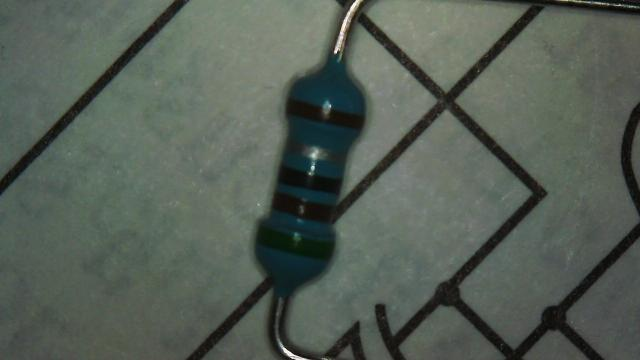black: (277, 164, 341, 194)
brown: (286, 98, 364, 130), (272, 192, 334, 223)
green: (256, 225, 333, 260)
resistor: (249, 54, 376, 293)
silver: (284, 139, 346, 164)
